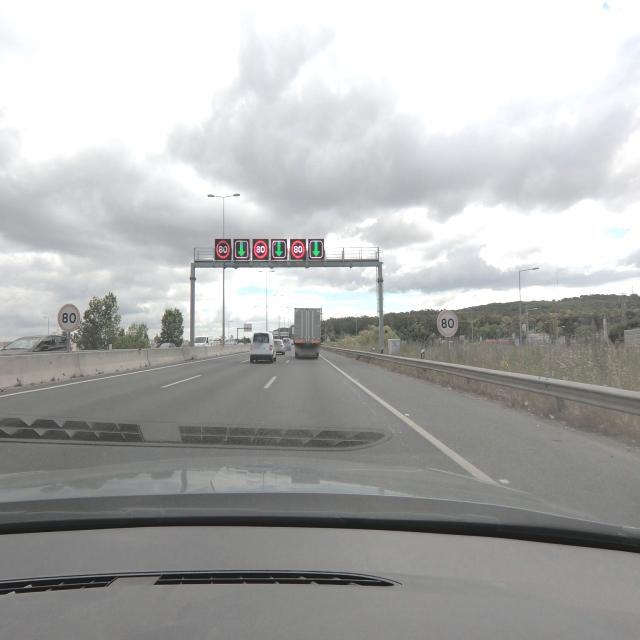car: (0, 334, 71, 354), (249, 332, 277, 364), (29, 334, 70, 354), (272, 338, 286, 355), (160, 342, 175, 348)
